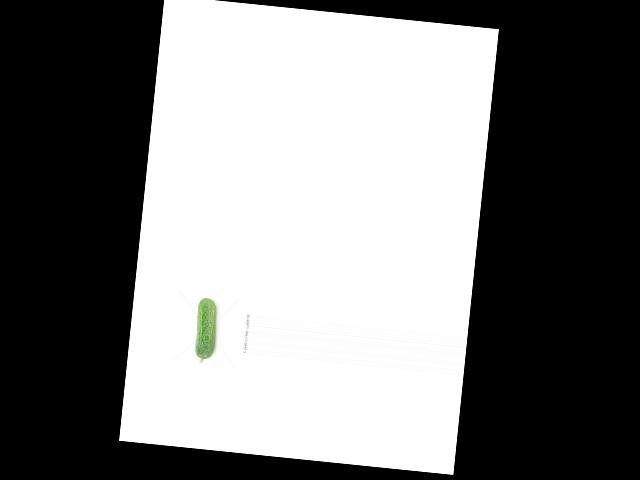cucumber: (192, 296, 219, 364)
